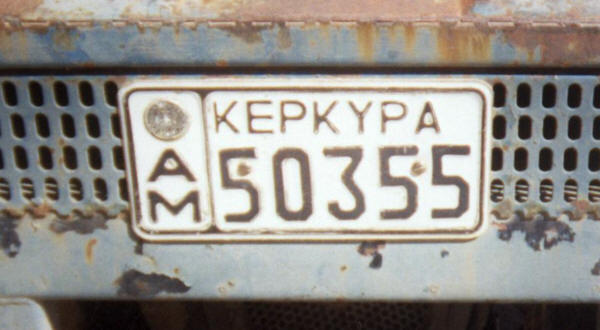license_plate: (119, 78, 486, 239)
